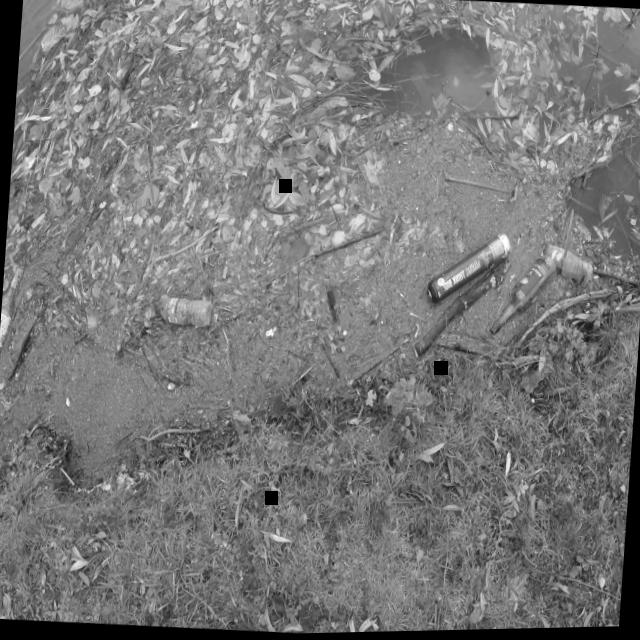Aerosol: (425, 234, 509, 305)
Clear plastic bottle: (542, 245, 591, 288), (154, 297, 211, 326)
Glass bottle: (489, 257, 555, 335), (0, 266, 22, 348)
